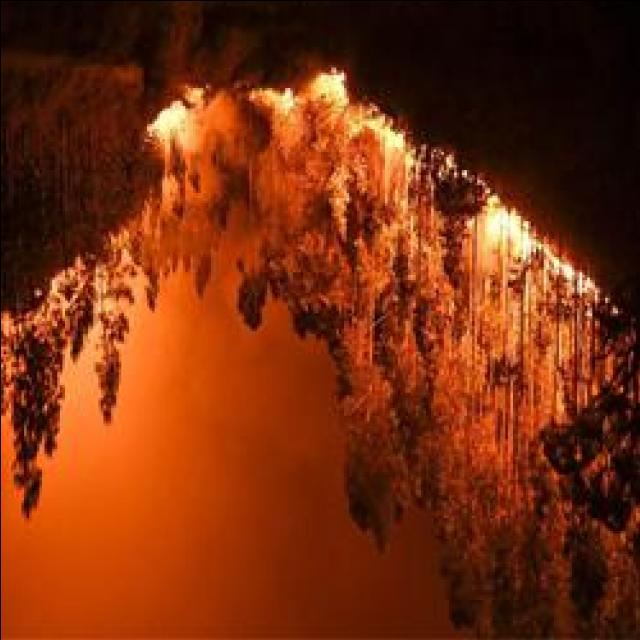fire: (484, 210, 524, 243), (150, 104, 186, 134), (370, 128, 410, 154), (262, 88, 296, 108), (316, 70, 346, 92)
smoke: (228, 215, 260, 263)
